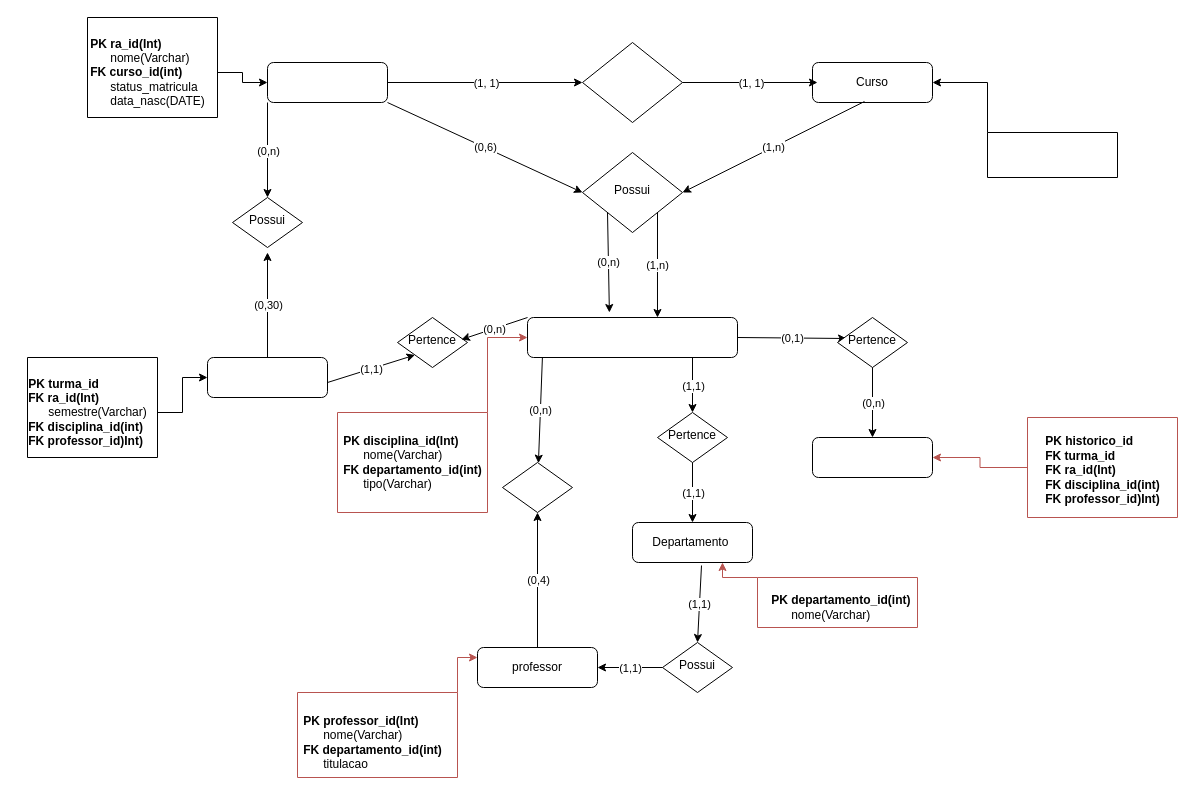
Some shapes in this 1195 by 795 pixel diagram are drawn without their labels. The shapes that lost their labels are listed below. From the top down, each one's centre as x and y in pixels, then its label:
point (327, 82): Aluno
point (632, 82): matriculado
point (1052, 155): PK curso_id(Int) nome(Varchar)
point (632, 337): Disciplina
point (267, 377): Turma
point (872, 457): historico_escolar
point (537, 487): Leociona
